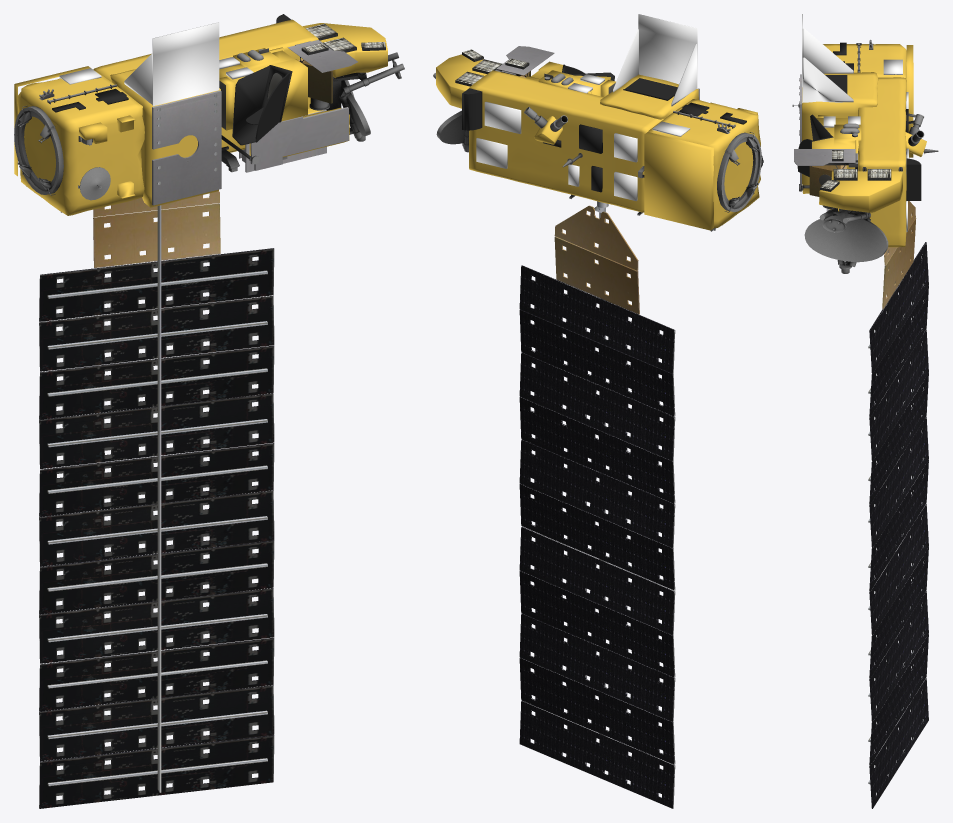
The model's file is Aura.glb.
3 views of the same model, side by side, from view 1: azimuth 30°, elevation 25°; view 2: azimuth 150°, elevation 25°; view 3: azimuth 270°, elevation 25° (orthographic). The views are drawn at different scales.
Visible parts, largest first — view 1: panel, foil_gold, part_01, instruments, foil_silver, black_krinkle; view 2: shiny_panel, foil_gold, panel, foil_silver, instruments, black_krinkle, part_01; view 3: shiny_panel, foil_gold, panel, instruments, foil_silver, part_01, black_krinkle.
Boxes of the visible parts, x1,y1,x2,y2 form: panel: (39,191,274,808); foil_gold: (14,19,387,215); part_01: (152,23,385,205); instruments: (14,41,404,212); foil_silver: (59,22,253,106); black_krinkle: (52,14,292,145); shiny_panel: (519,266,674,808); foil_gold: (436,54,760,230); panel: (520,201,675,808); foil_silver: (476,14,697,201); instruments: (433,69,763,231); black_krinkle: (462,64,746,192); part_01: (455,46,699,99); shiny_panel: (870,242,928,808); foil_gold: (802,44,926,247); panel: (868,201,928,808); instruments: (792,39,938,273); foil_silver: (802,14,908,231); part_01: (794,74,891,211); black_krinkle: (797,42,921,200).
Bounding box in the file's own units: 8.73 × 18.74 × 3.43.
6 materials, 3 textured.
